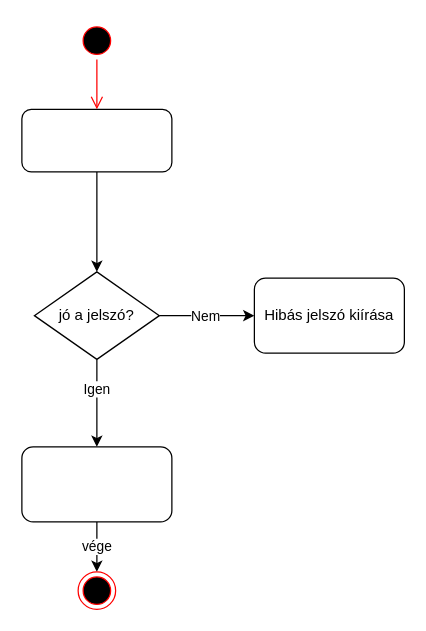
The diagram is 426 pixels wide and 631 high, and some of its shapes have lost their labels. Here are the shapes that lost their labels. From the top down, the box of each, then its label:
(21, 108, 172, 172): jelszó megadása
(21, 446, 172, 522): Üdvözlő szöveg kiírása
